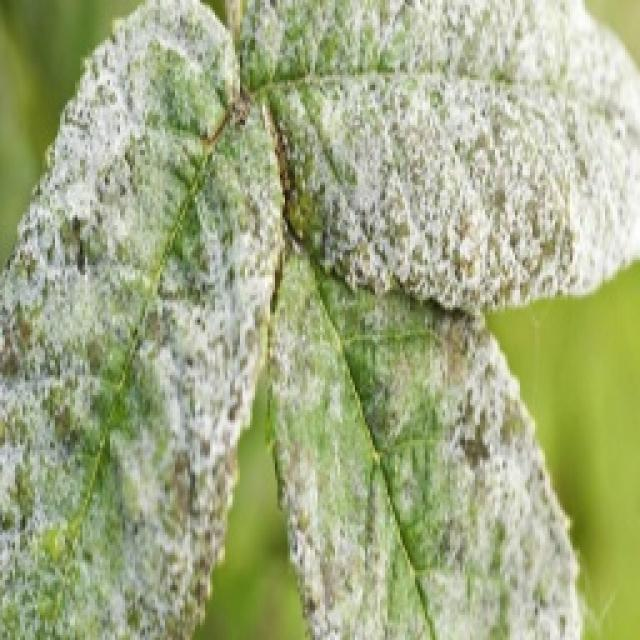Powdery Mildew: (0, 0, 638, 638), (0, 0, 285, 638)
